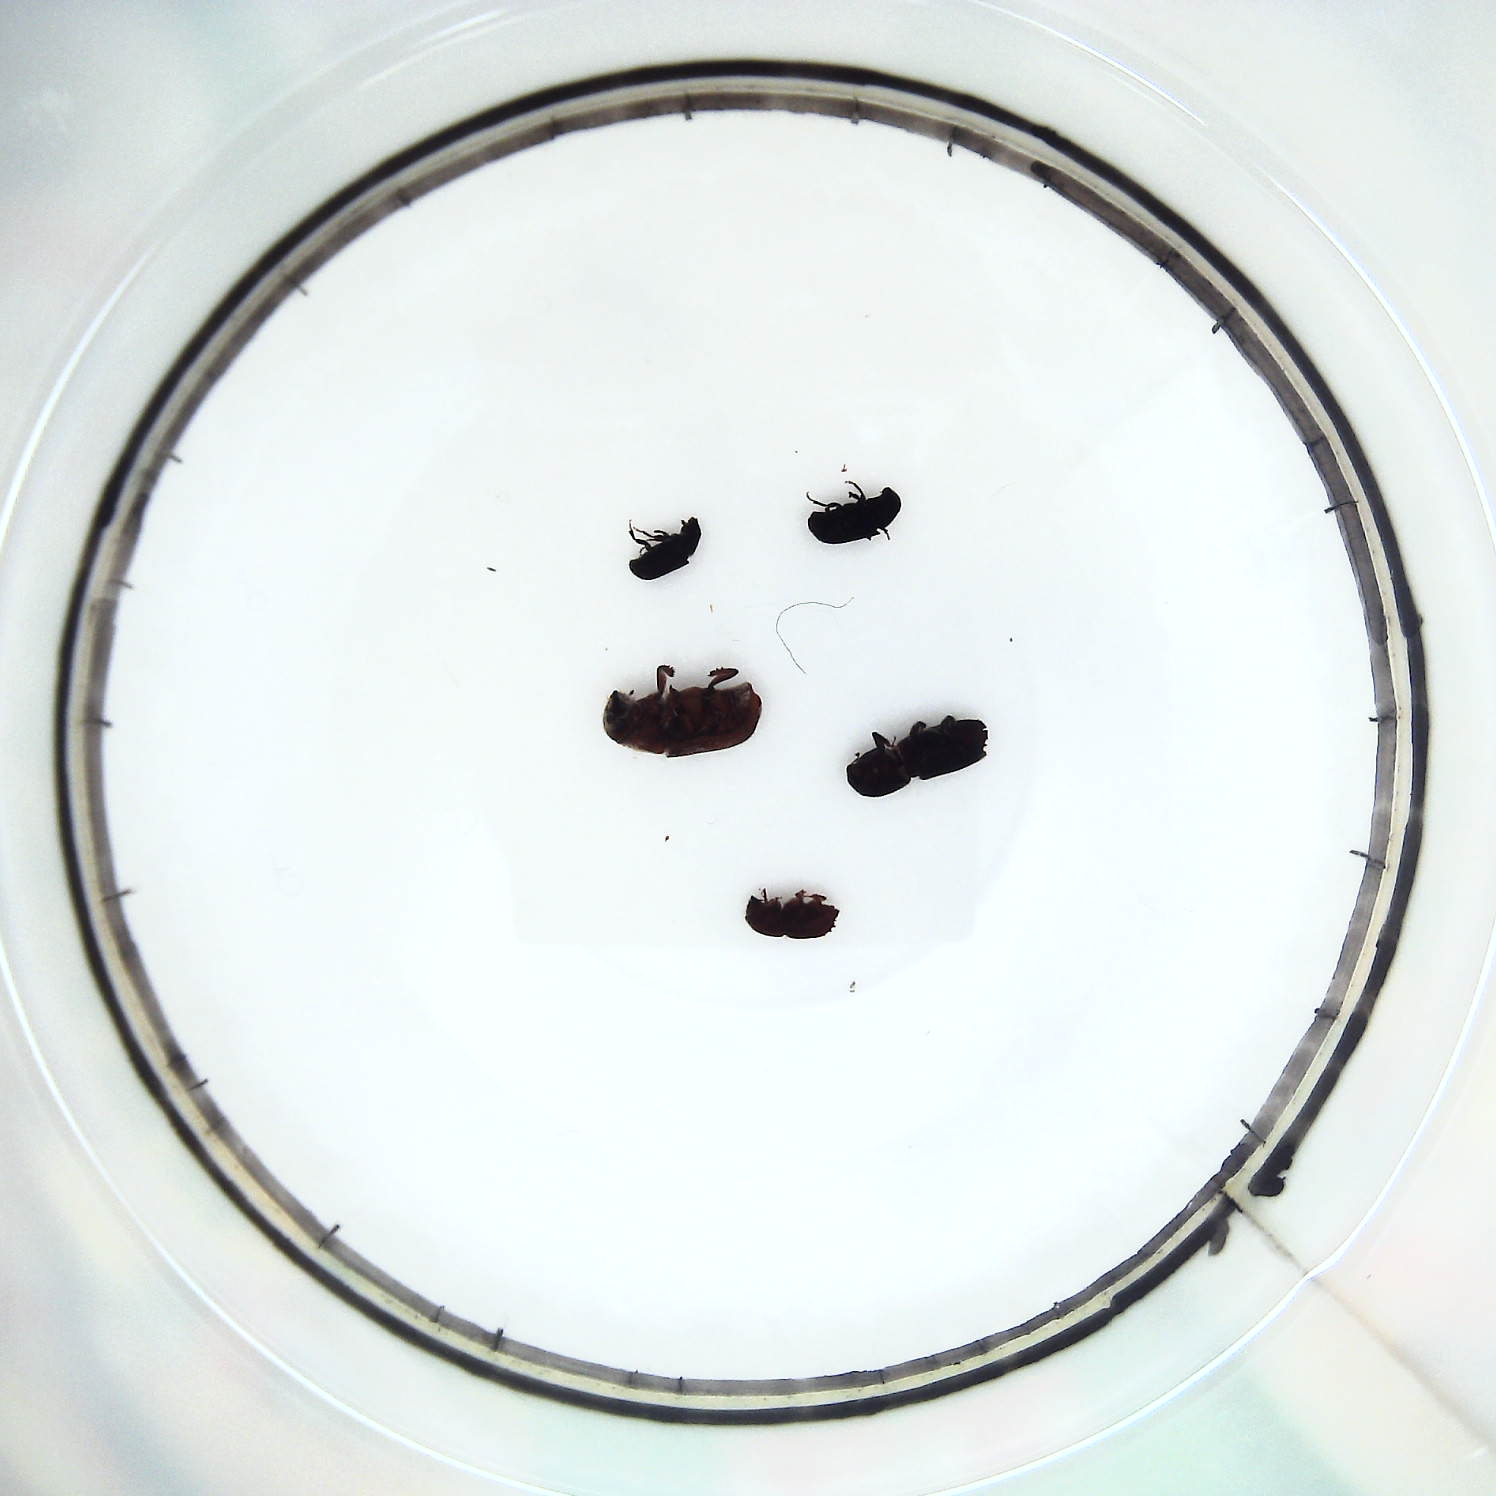Boerner: (843, 714, 995, 801)
Leconte: (599, 656, 770, 764)
armandi: (799, 479, 911, 553)
coleoptera: (619, 512, 710, 585)
linnaeus: (738, 884, 843, 947)
